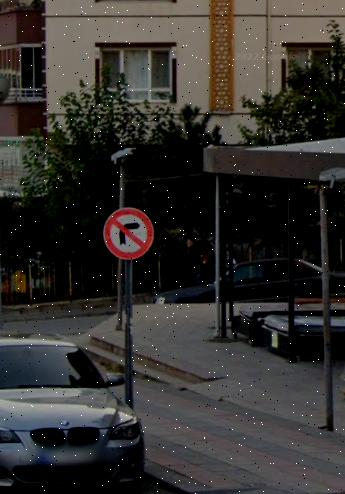rightturnsareforbidden: (103, 209, 155, 259)
